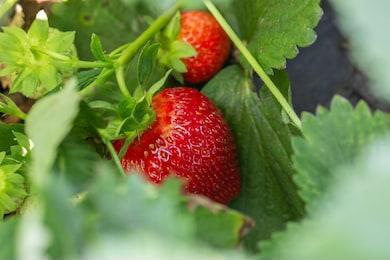Fresa: (110, 84, 249, 207), (157, 9, 243, 84)
